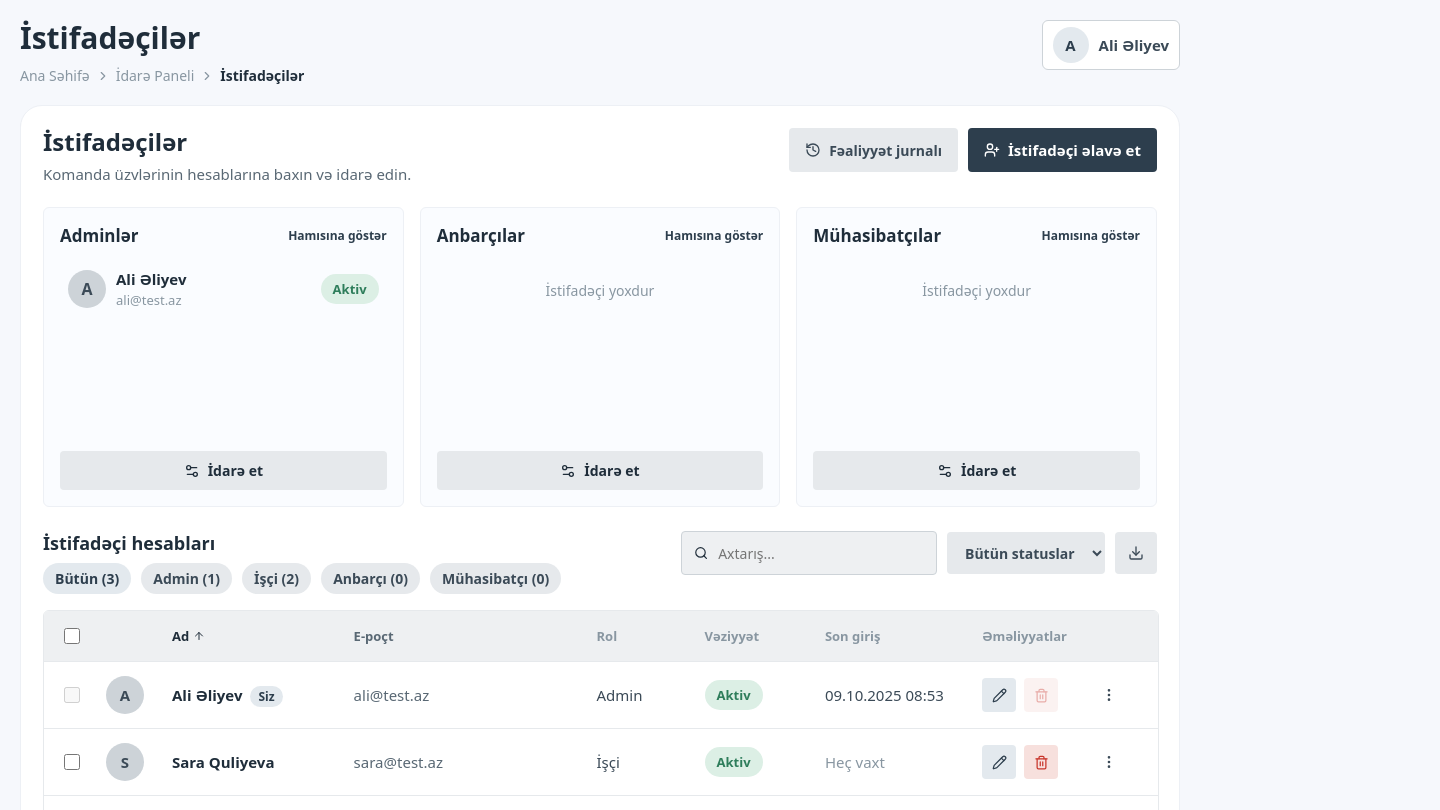
it: delete hides the row at once; Undo cancels it and nothing reaches the server
expect the 1st element with test id "user-row" is shown: met, box x1=44 y1=662 x2=1158 y2=729
Click the button named "Sil" in the row of "sara@test.az": [1041, 762] box x1=1024 y1=745 x2=1058 y2=779
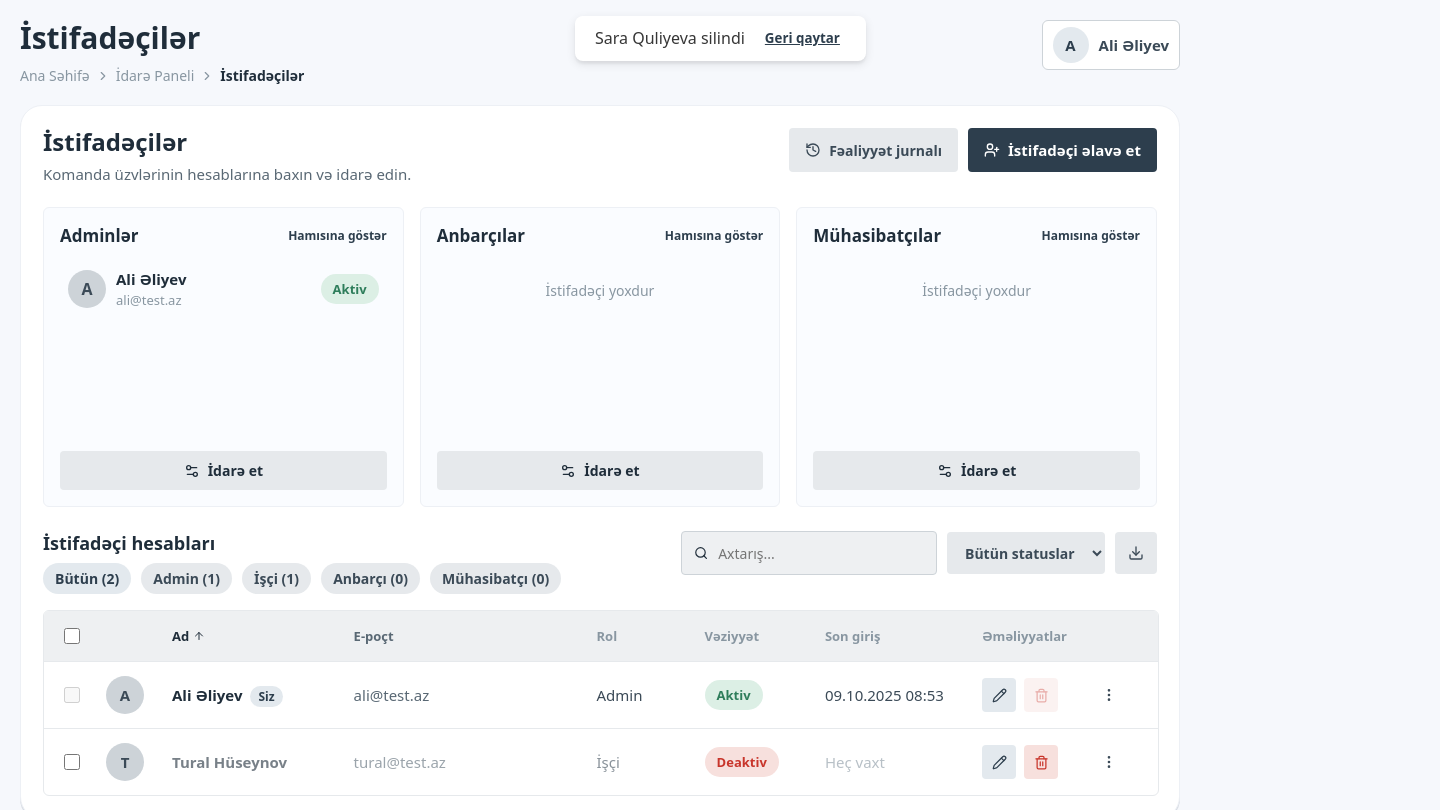
Click the button "Geri qaytar": [802, 38] box x1=758 y1=28 x2=846 y2=48
Wait 6100 ms
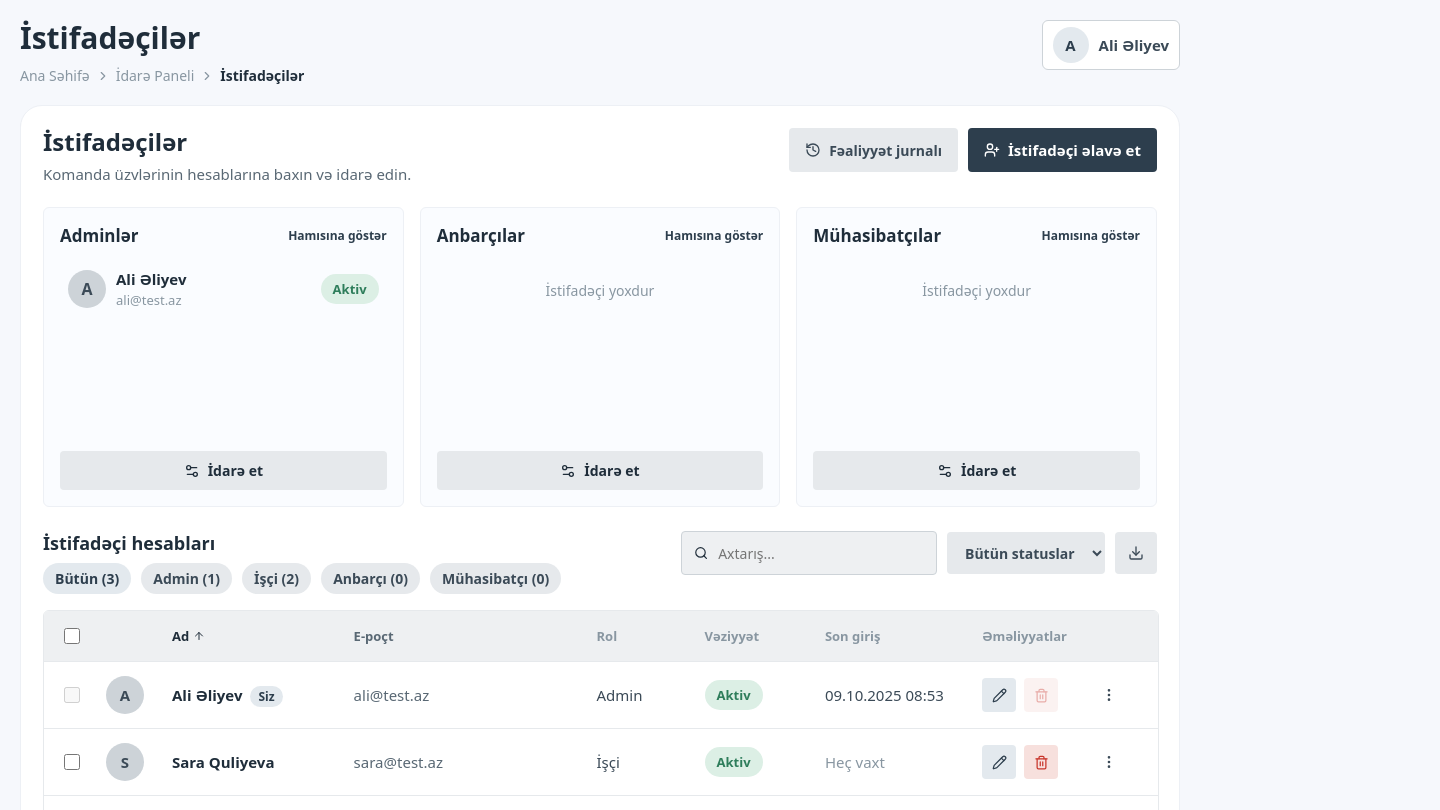
expect the element with test id "user-row" that starts with "Sara Quliyeva" is shown: met, box x1=44 y1=729 x2=1158 y2=796
